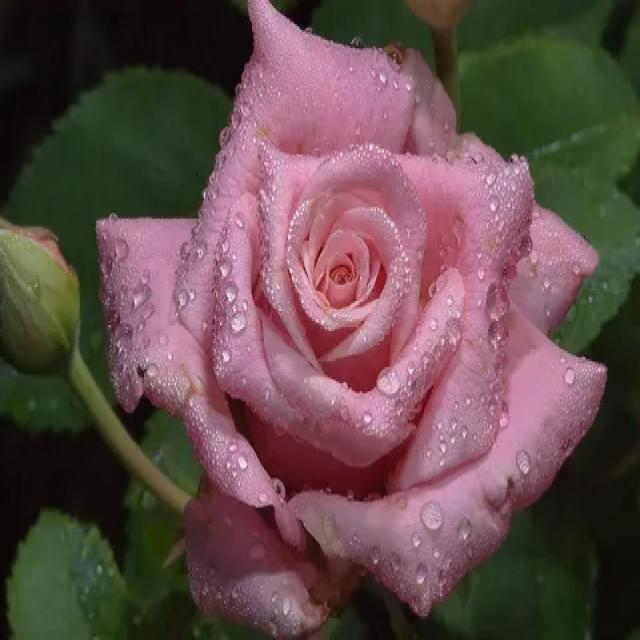rose: (87, 0, 589, 624)
